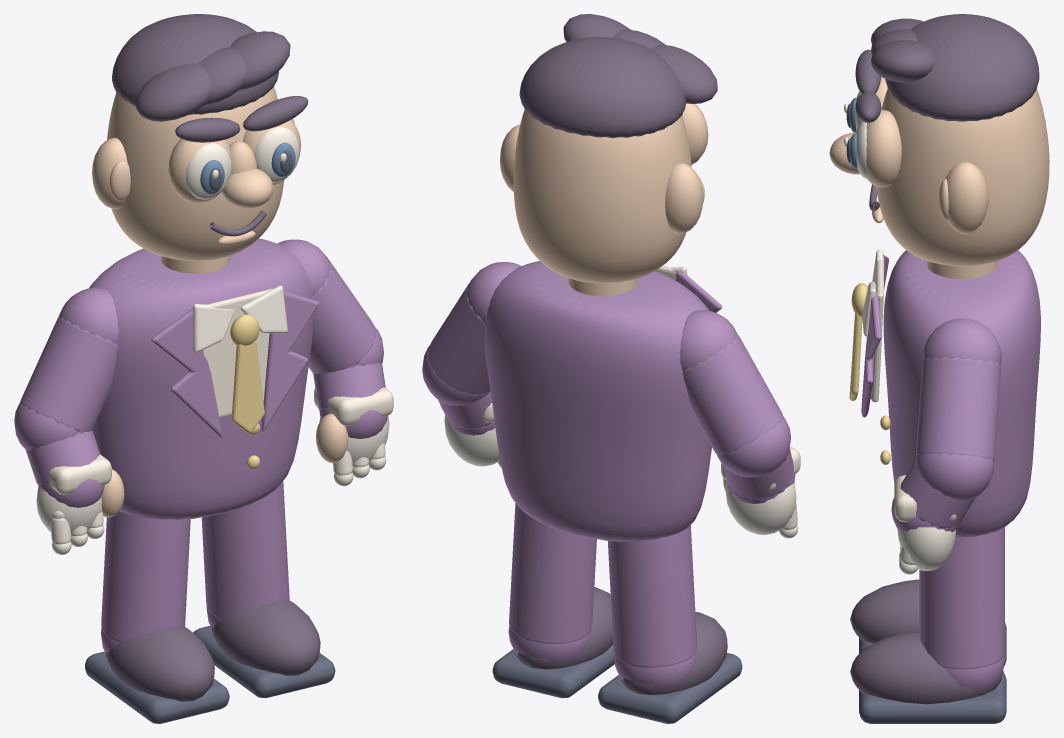
File: Victor.fbx
3 renders of one model, left to right at view 1: azimuth 30°, elevation 25°; view 2: azimuth 150°, elevation 25°; view 3: azimuth 270°, elevation 25°, orthographic.
Parts seen in each view (by area): view 1: Tailored silhouette.001, Sculpted face.001, Trouser leg.002, Trouser leg.003, Hair cap.001, Upper sleeve.002, Polished shoe.002, Polished shoe.003, Upper sleeve.003, Notched lapel.002, Notched lapel.003, Shoe sole.002 (+32 smaller); view 2: Tailored silhouette.001, Sculpted face.001, Hair cap.001, Trouser leg.002, Trouser leg.003, Upper sleeve.002, Upper sleeve.003, Shoe sole.002, Shoe sole.003, Polished shoe.002, Upper sleeve shoulder.002, Upper sleeve joint.002 (+16 smaller); view 3: Tailored silhouette.001, Sculpted face.001, Hair cap.001, Trouser leg.003, Upper sleeve.003, Polished shoe.003, Shoe sole.003, Polished shoe.002, Upper sleeve joint.003, Upper sleeve shoulder.003, Ear.003, Lid surround.003 (+18 smaller).
Boxes of the visible parts, x1,y1,x2,y2 form: Tailored silhouette.001: [89, 238, 313, 519]; Sculpted face.001: [107, 87, 284, 260]; Trouser leg.002: [101, 511, 190, 642]; Trouser leg.003: [201, 481, 289, 619]; Hair cap.001: [112, 14, 278, 114]; Upper sleeve.002: [20, 316, 117, 431]; Polished shoe.002: [105, 626, 214, 701]; Polished shoe.003: [211, 599, 320, 675]; Upper sleeve.003: [308, 260, 376, 374]; Notched lapel.002: [151, 308, 222, 438]; Notched lapel.003: [261, 291, 318, 431]; Shoe sole.002: [85, 651, 229, 723]; Tailored silhouette.001: [484, 261, 711, 541]; Sculpted face.001: [513, 109, 691, 283]; Hair cap.001: [519, 37, 686, 138]; Trouser leg.002: [607, 525, 696, 667]; Trouser leg.003: [509, 503, 596, 643]; Upper sleeve.002: [683, 335, 783, 455]; Upper sleeve.003: [428, 283, 490, 394]; Shoe sole.002: [598, 653, 742, 723]; Shoe sole.003: [492, 644, 614, 698]; Polished shoe.002: [620, 612, 727, 694]; Upper sleeve shoulder.002: [679, 310, 737, 371]; Upper sleeve joint.002: [717, 416, 790, 477]; Tailored silhouette.001: [883, 250, 1040, 537]; Sculpted face.001: [876, 88, 1049, 266]; Hair cap.001: [885, 14, 1039, 121]; Trouser leg.003: [919, 527, 1004, 669]; Upper sleeve.003: [916, 357, 1001, 461]; Polished shoe.003: [850, 632, 1003, 704]; Shoe sole.003: [859, 672, 1006, 723]; Polished shoe.002: [850, 579, 919, 643]; Upper sleeve joint.003: [915, 453, 994, 500]; Upper sleeve shoulder.003: [922, 318, 1001, 365]; Ear.003: [945, 162, 988, 233]; Lid surround.003: [866, 110, 901, 187].
Bounding box in the file's own units: 143 × 74.56 × 245.
